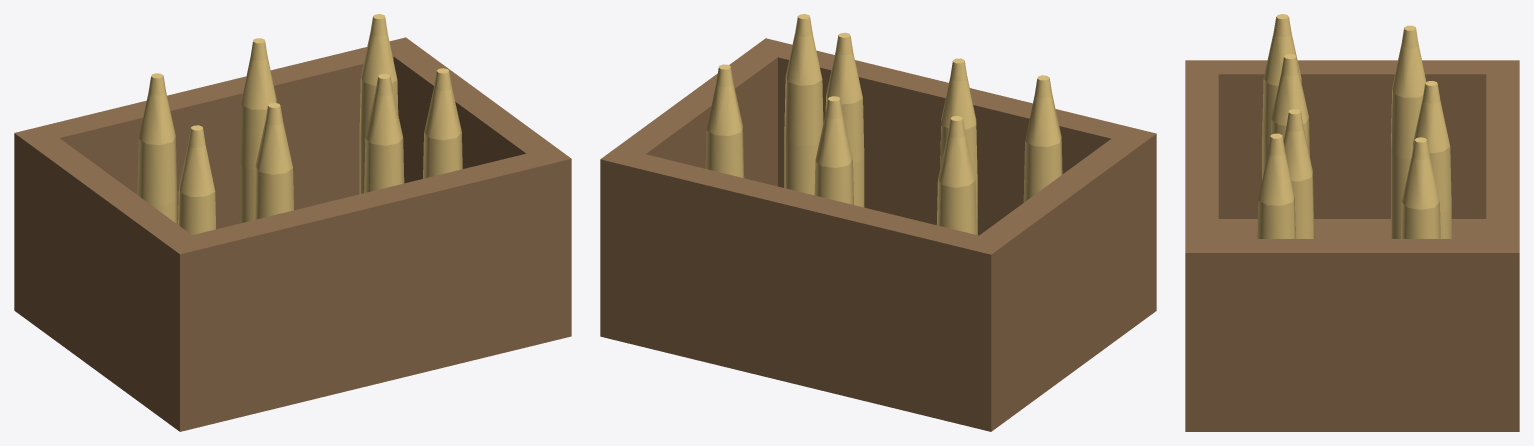
Rendered from PickupAmmo.gltf.
3 renders of one model, left to right at view 1: azimuth 30°, elevation 25°; view 2: azimuth 150°, elevation 25°; view 3: azimuth 270°, elevation 25°, orthographic.
Size of the model in its own units: 0.3 by 0.185 by 0.22.
